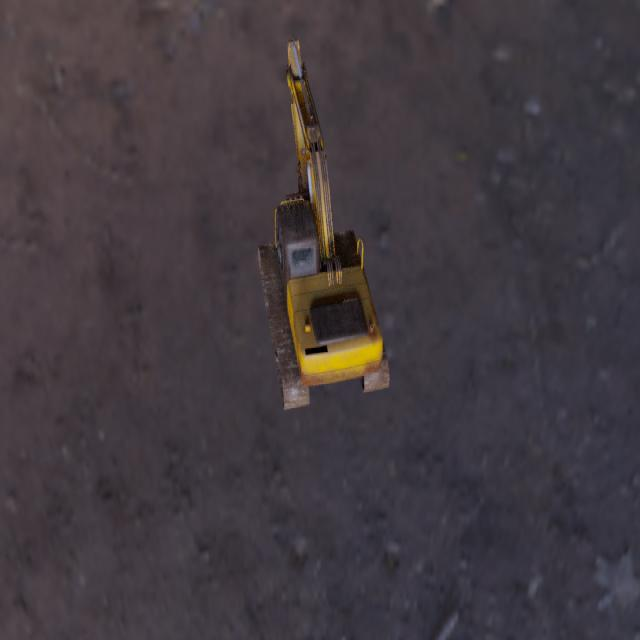excavator: (257, 38, 389, 410)
